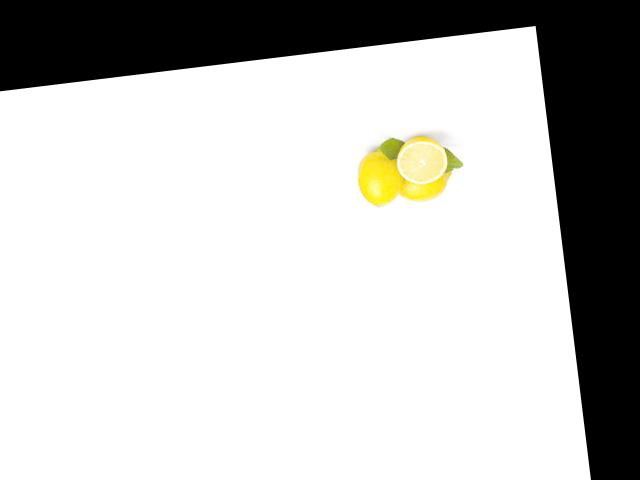lemon: (399, 165, 458, 207)
